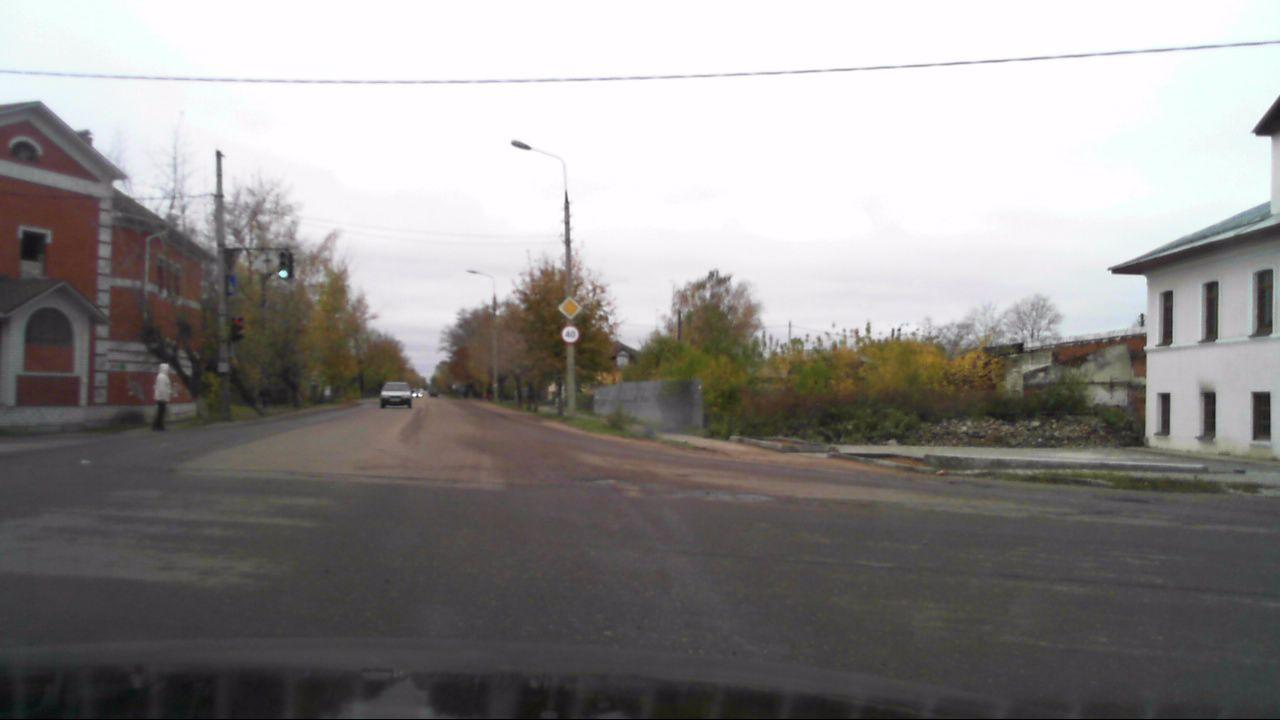road_sign: (556, 295, 584, 321), (560, 324, 580, 343)
